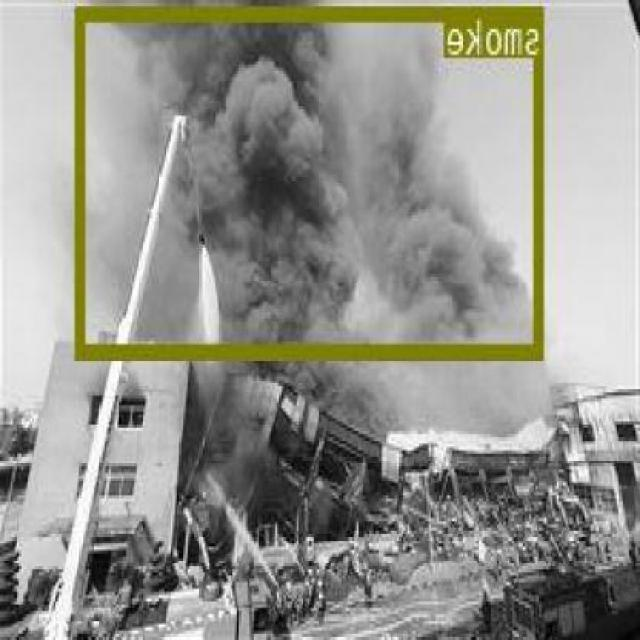Smoke: (77, 3, 545, 354)
